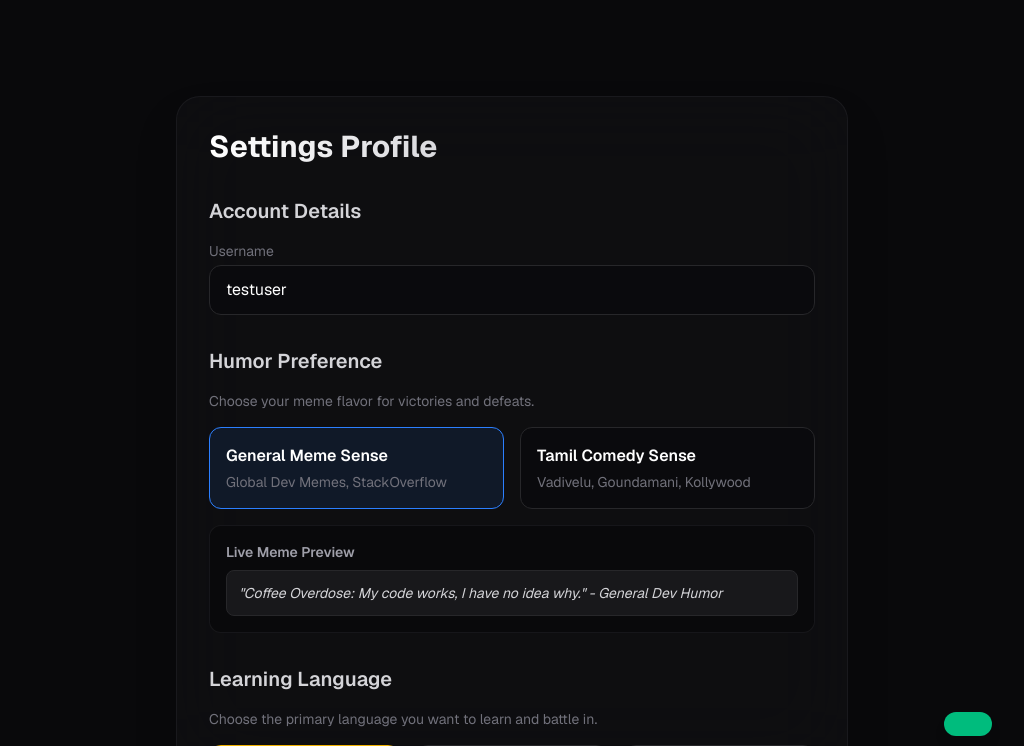
Test: Settings Page — Supabase Integration › updates meme preview card when humor preference is toggled
Expected: the text with test id "meme-preview" shows "Coffee Overdose", [239, 584, 722, 602]
Step 1. Click the button "Tamil Comedy Sense Vadivelu, Goundamani, Kollywood" → (668, 468), box [520, 427, 815, 509]
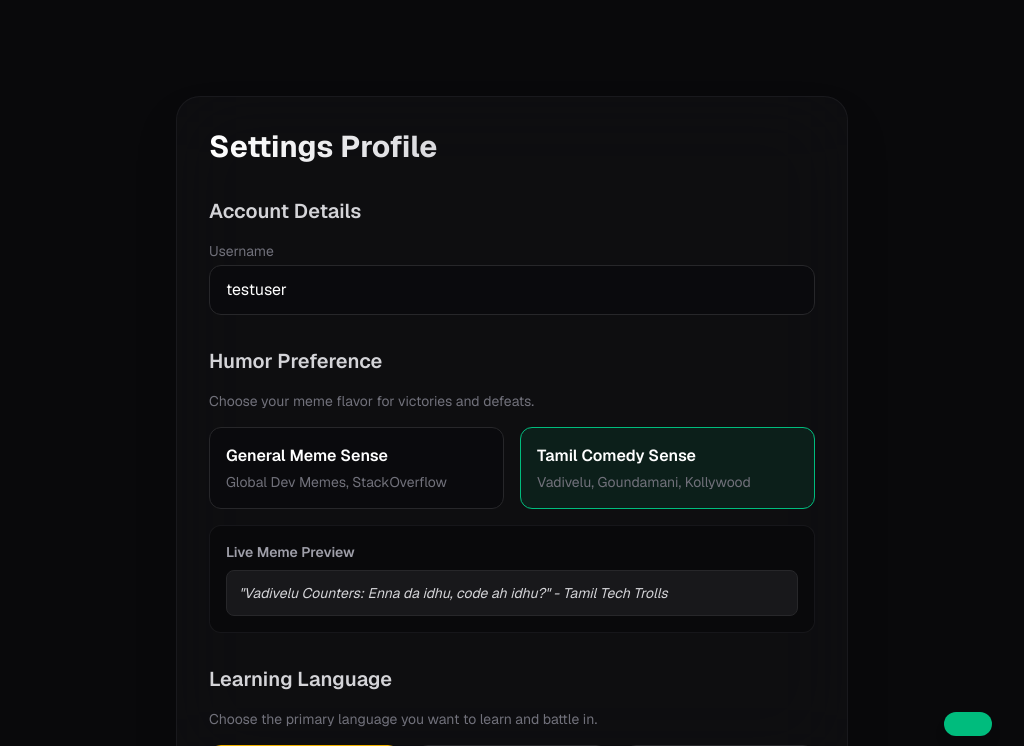
Now the text with test id "meme-preview" shows "Vadivelu Counters", box [239, 584, 668, 602]
